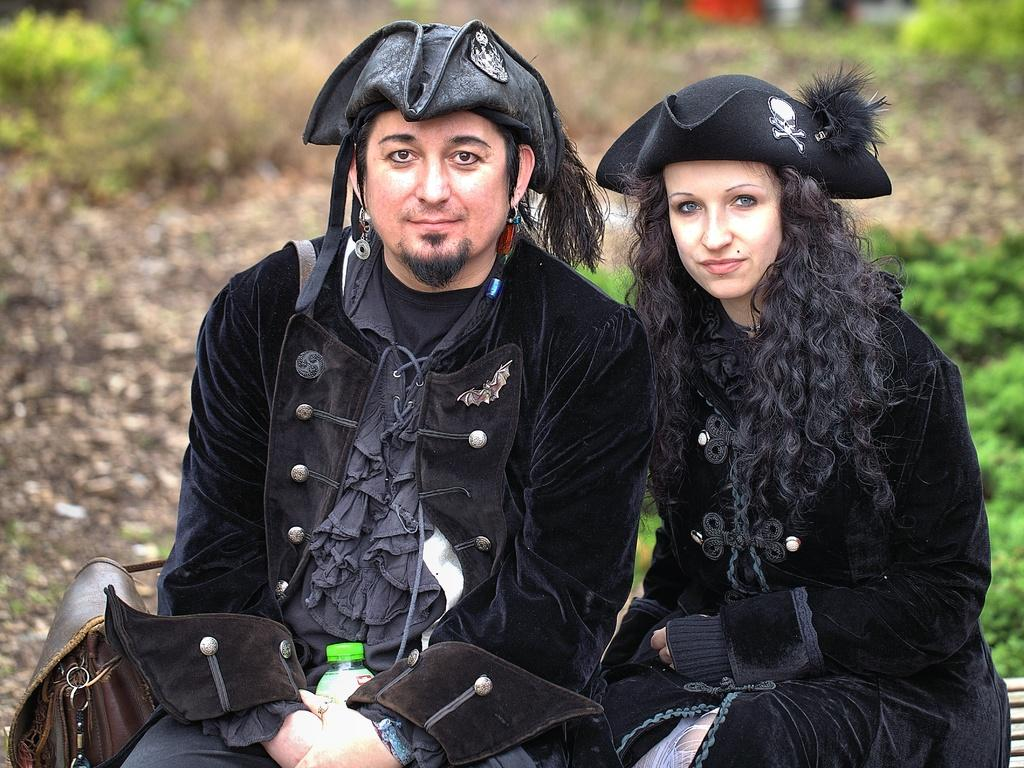Hat: (302, 18, 604, 276), (593, 62, 891, 197)
